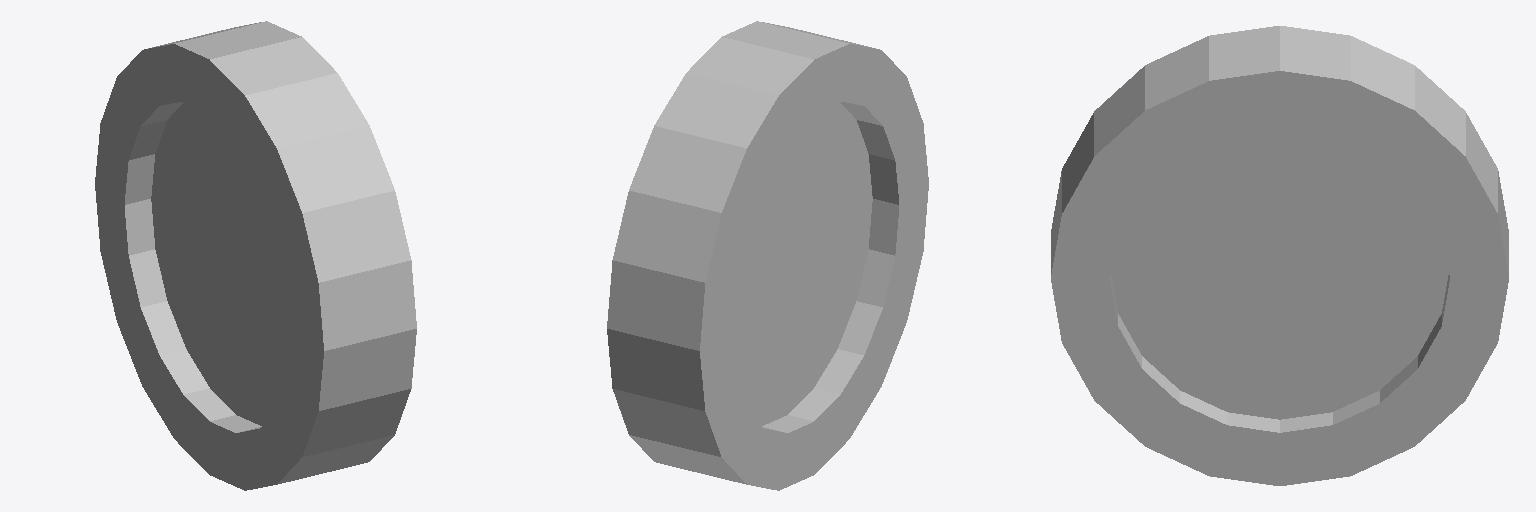
File: Duncs coin.obj
3 views of the same model, side by side, from view 1: azimuth 30°, elevation 25°; view 2: azimuth 150°, elevation 25°; view 3: azimuth 270°, elevation 25° (orthographic).
Visible parts, largest first — view 1: Tube, Cylinder.1; view 2: Tube, Cylinder.1; view 3: Tube, Cylinder.1.
Boxes of the visible parts, <box> form: Tube: <box>95,21,416,490</box>; Cylinder.1: <box>151,102,294,425</box>; Tube: <box>607,21,928,490</box>; Cylinder.1: <box>729,102,872,425</box>; Tube: <box>1051,26,1508,485</box>; Cylinder.1: <box>1111,125,1448,419</box>.
Size of the model in its own units: 29.02 by 124 by 124.